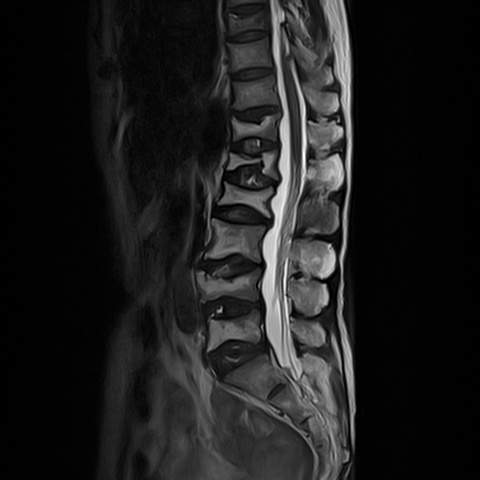L1,v2: (228, 149, 277, 176)
L1-L2,v5: (226, 168, 275, 195)
L2,v2: (220, 183, 269, 210)
L2-L3,v5: (216, 203, 265, 230)
L3,v2: (210, 230, 259, 257)
L3-L4,v5: (208, 253, 257, 280)
L4,v2: (205, 274, 254, 301)
L4-L5,v3: (206, 295, 255, 322)
L4-L5,v5: (206, 295, 255, 322)
L5,v2: (207, 317, 256, 344)
L5-S1,v3: (212, 342, 261, 369)
T12-L1,v5: (230, 131, 279, 158)
